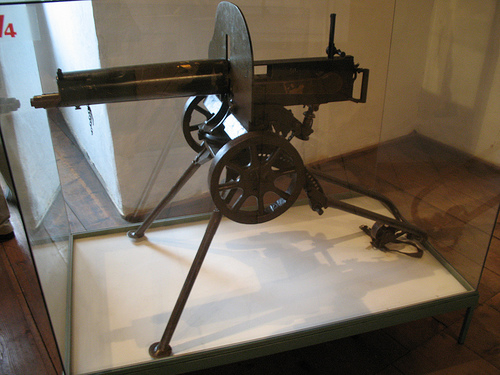rifle: (25, 24, 451, 354)
